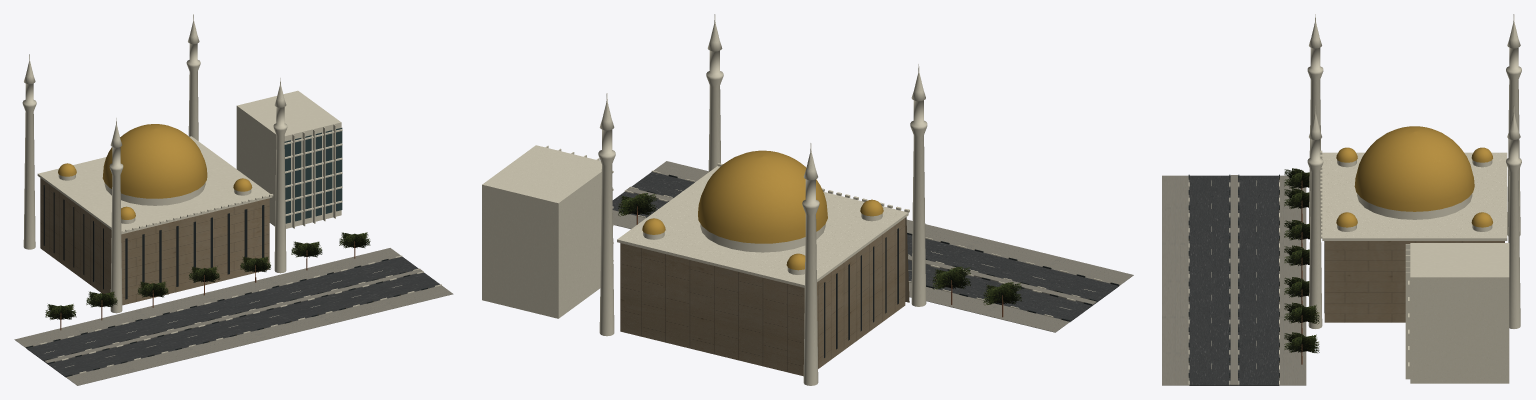
Rendered from near.glb.
3 views of the same model, side by side, from view 1: azimuth 30°, elevation 25°; view 2: azimuth 150°, elevation 25°; view 3: azimuth 270°, elevation 25° (orthographic). The views are drawn at different scales.
Parts seen in each view (by area): view 1: Abuja mineral atlas, Gold panel metal, Recessed glazing, Baked broadleaf alpha cards; view 2: Abuja mineral atlas, Gold panel metal, Baked broadleaf alpha cards, Recessed glazing; view 3: Abuja mineral atlas, Gold panel metal, Baked broadleaf alpha cards.
Part boxes in pixels (<box>): Abuja mineral atlas: <box>14,14,453,385</box>; Gold panel metal: <box>58,124,252,219</box>; Recessed glazing: <box>43,128,342,289</box>; Baked broadleaf alpha cards: <box>45,232,370,319</box>; Abuja mineral atlas: <box>482,14,1133,385</box>; Gold panel metal: <box>642,150,883,270</box>; Baked broadleaf alpha cards: <box>618,193,1021,305</box>; Recessed glazing: <box>824,228,898,357</box>; Abuja mineral atlas: <box>1162,14,1521,385</box>; Gold panel metal: <box>1336,126,1492,227</box>; Baked broadleaf alpha cards: <box>1284,168,1319,353</box>.
Bounding box in the file's own units: 110 × 55.1 × 79.75.
Materials: 4 (4 with a texture image).
